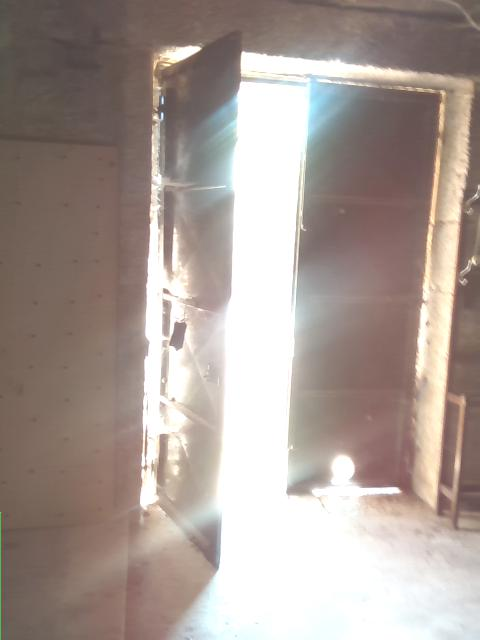semi_door: (137, 27, 446, 573)
